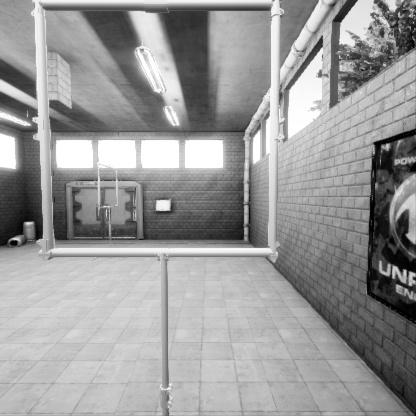gate: (33, 167, 306, 416), (97, 209, 118, 255)
